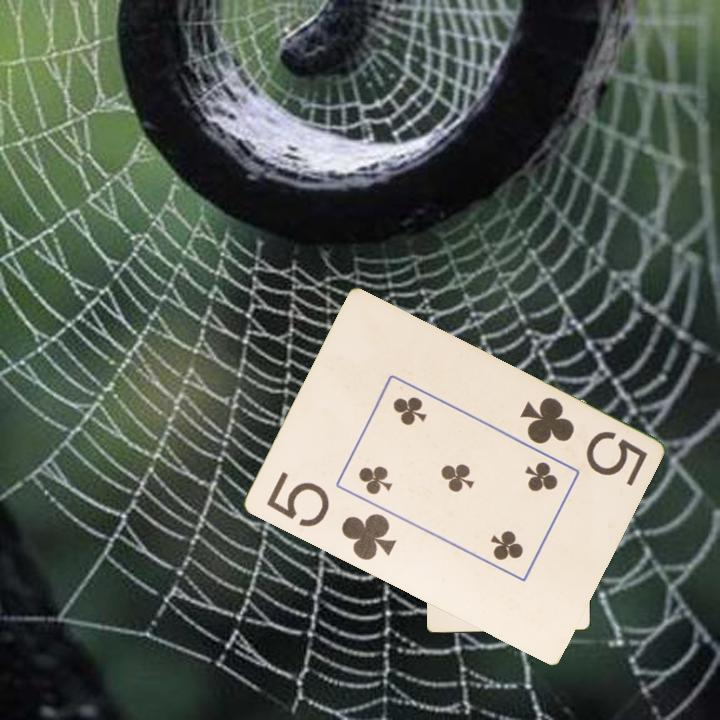5c: (262, 468, 400, 564), (516, 393, 650, 490)
